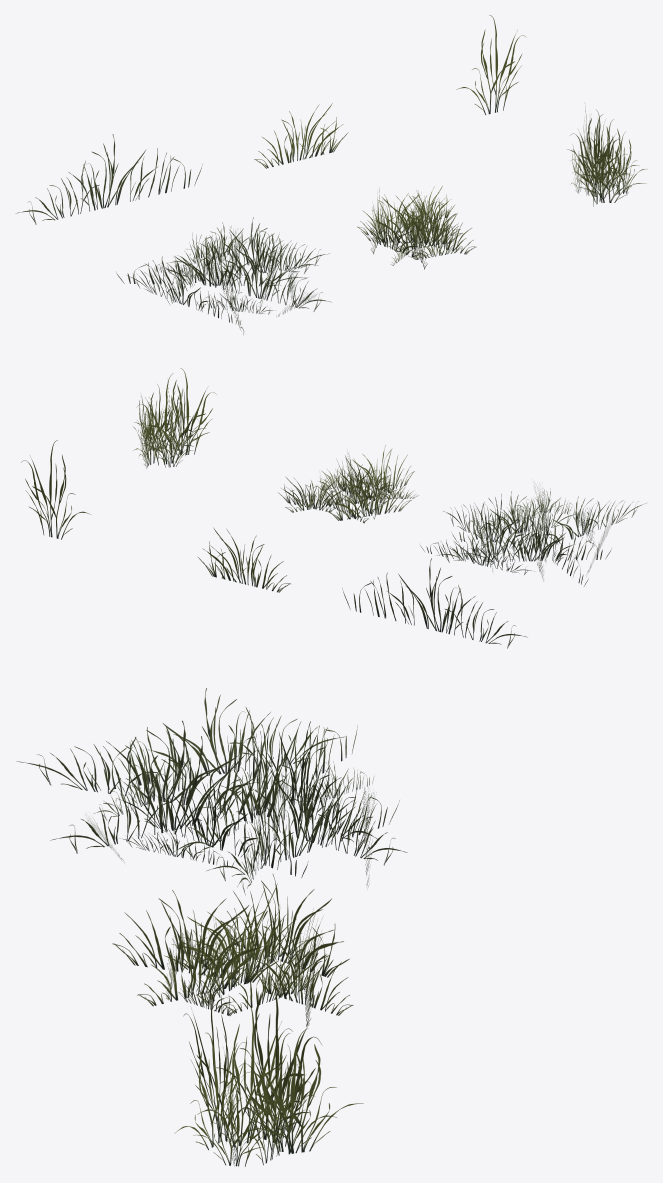
The model's file is grass.glb.
3 renders of one model, top to bottom at view 1: azimuth 30°, elevation 25°; view 2: azimuth 150°, elevation 25°; view 3: azimuth 270°, elevation 25°, orthographic. The views are drawn at different scales.
Parts seen in each view (by area): view 1: grass1_4, grass2_3, grass3_5, 2dgrass1_2, 2dgrass2_0, 2dgrass3_1; view 2: grass1_4, grass2_3, grass3_5, 2dgrass1_2, 2dgrass2_0, 2dgrass3_1; view 3: grass1_4, grass2_3, grass3_5.
Part boxes in pixels (box(x1,y1,x2,y2)): grass1_4: box(116, 217, 331, 334); grass2_3: box(357, 185, 476, 269); grass3_5: box(567, 106, 645, 206); 2dgrass1_2: box(15, 134, 202, 224); 2dgrass2_0: box(254, 103, 348, 168); 2dgrass3_1: box(456, 15, 526, 114); grass1_4: box(420, 481, 646, 586); grass2_3: box(278, 445, 418, 523); grass3_5: box(133, 368, 216, 468); 2dgrass1_2: box(342, 558, 527, 648); 2dgrass2_0: box(198, 528, 290, 592); 2dgrass3_1: box(21, 440, 90, 539); grass1_4: box(16, 688, 407, 894); grass2_3: box(112, 874, 353, 1026); grass3_5: box(174, 972, 363, 1166).
Size of the model in its own units: 5.42 by 1 by 3.19.
6 materials, 6 textured.
